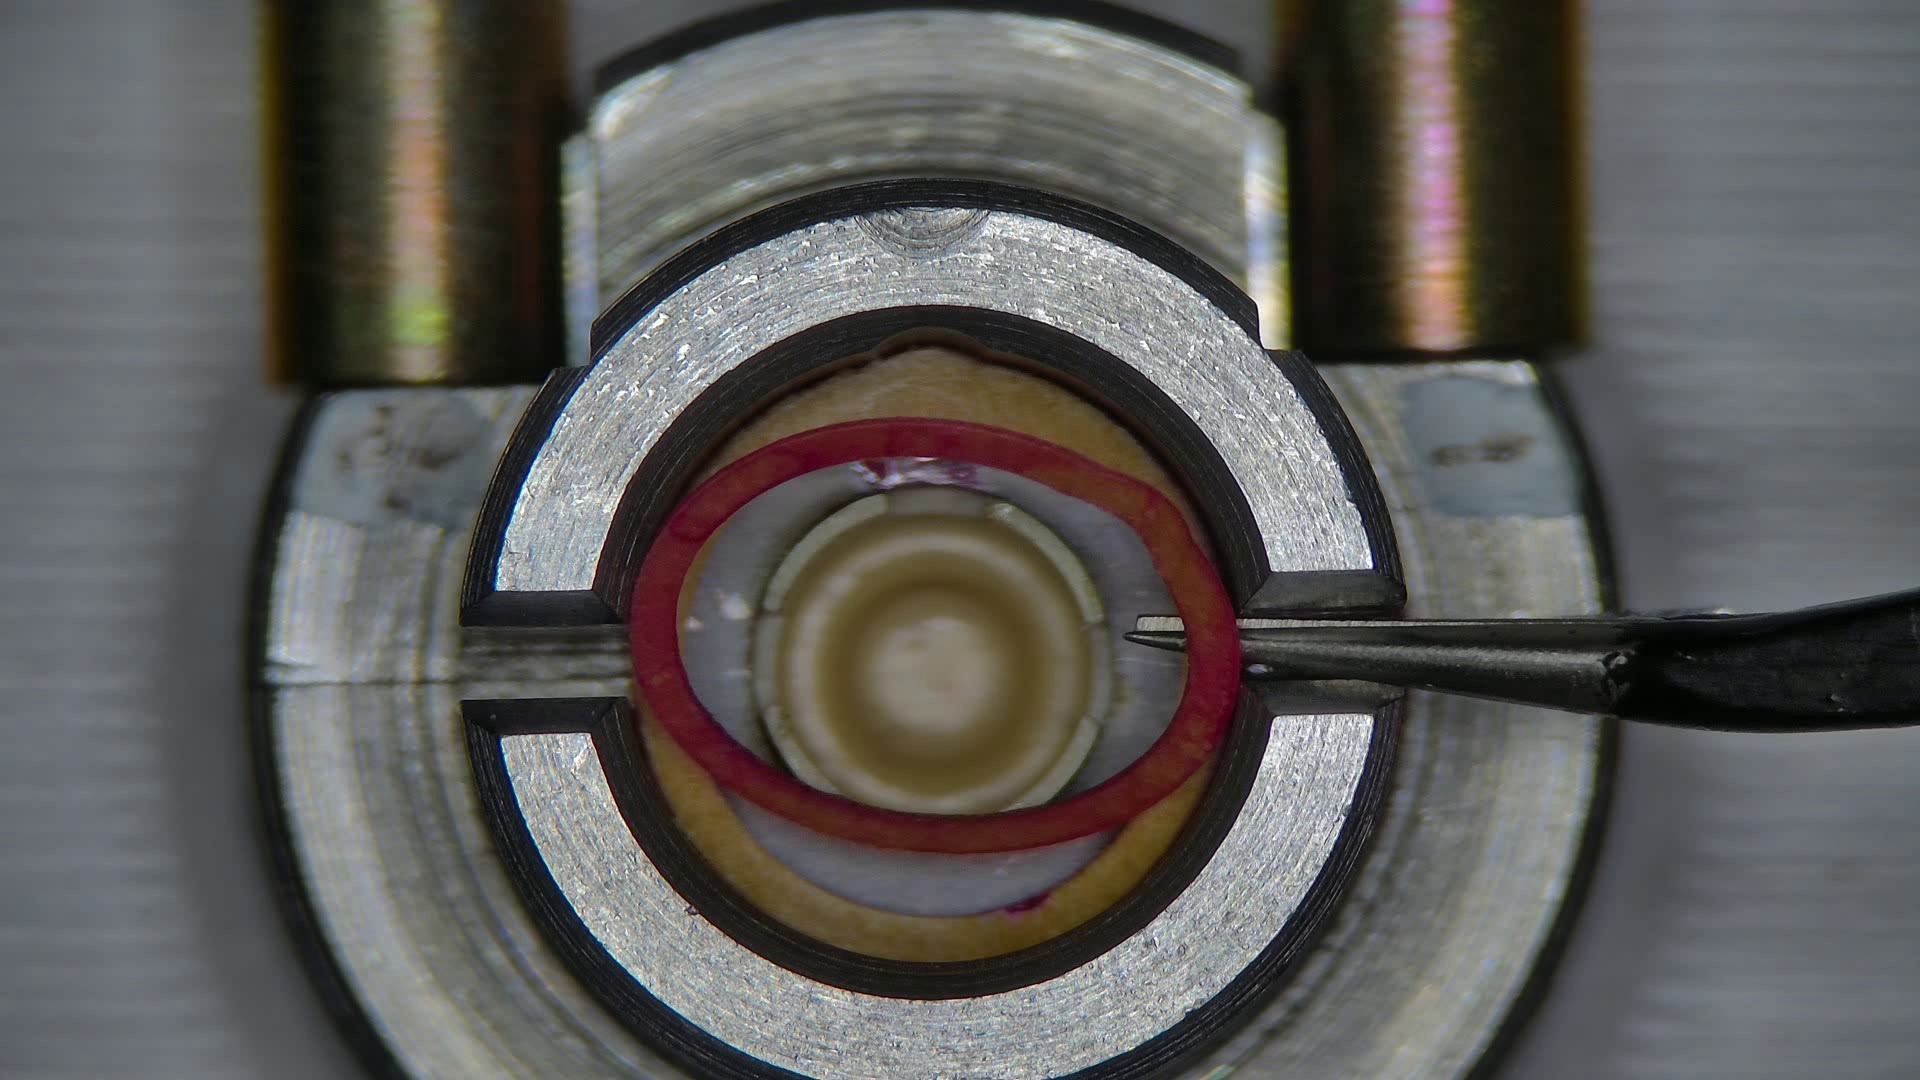GreyOring: (631, 422, 1239, 851)
YellowOring: (682, 457, 1183, 791), (755, 810, 1096, 917)
redOring: (645, 734, 1211, 960), (707, 350, 1199, 544)
